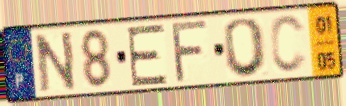8: (78, 28, 113, 91)
C: (268, 13, 310, 76)
E: (125, 21, 170, 88)
F: (171, 18, 211, 86)
N: (32, 29, 78, 96)
O: (222, 16, 270, 80)
